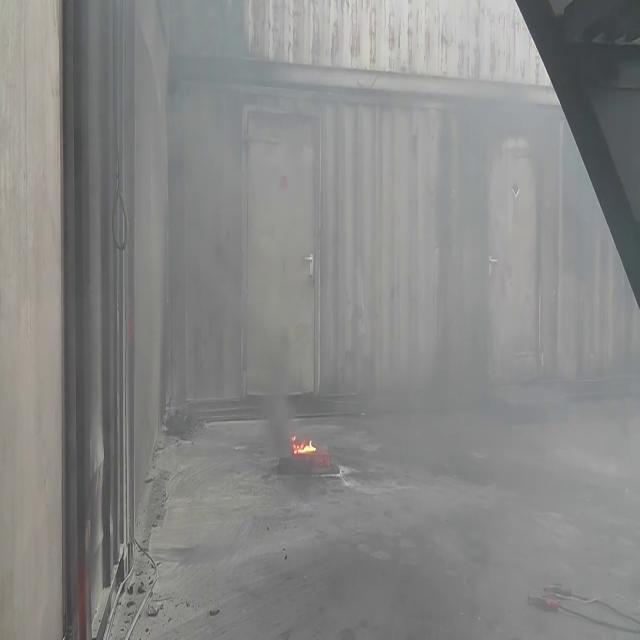Fire: (286, 431, 318, 454)
Smoke: (158, 0, 378, 416)
